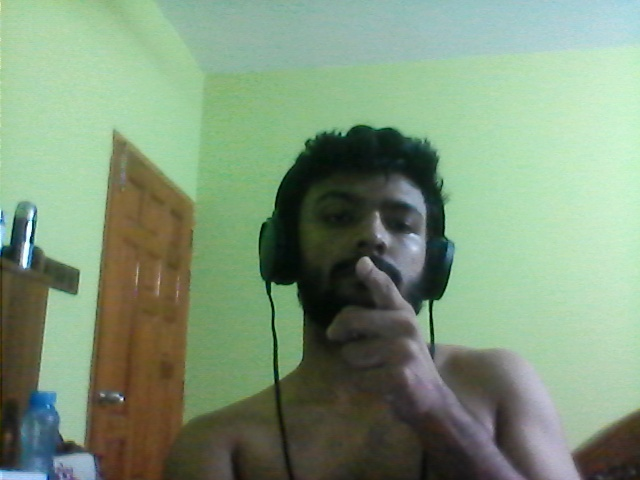You: (325, 248, 463, 436)
